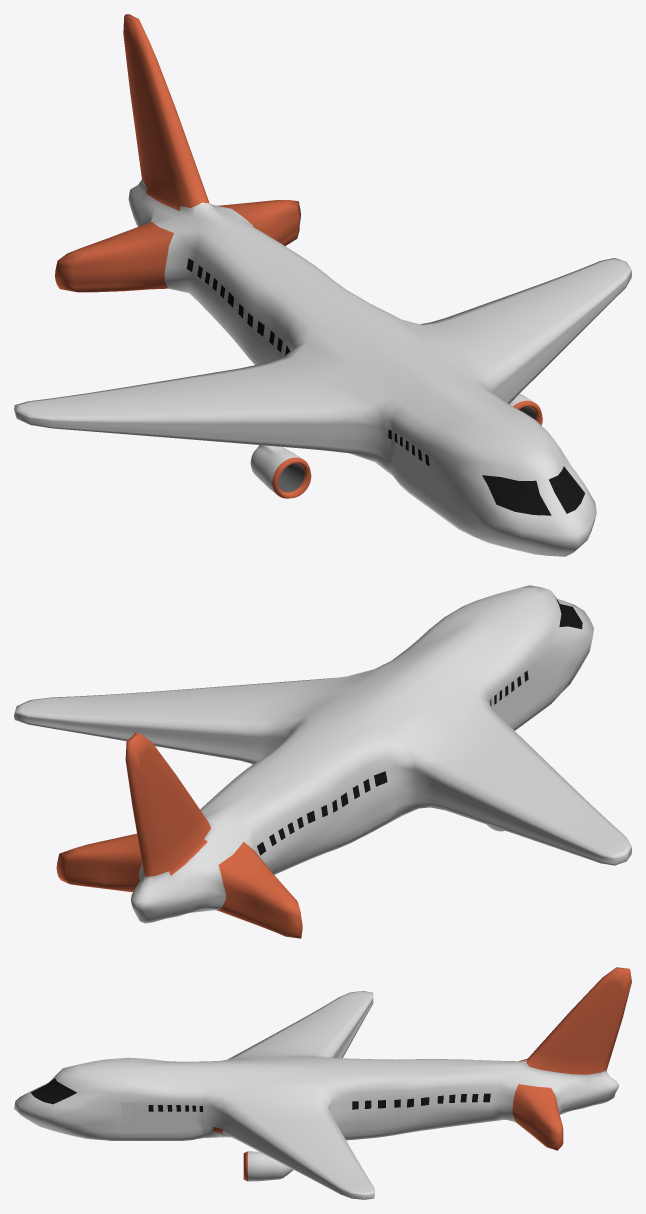
The picture shows the model from 3 angles, top to bottom: view 1: azimuth 30°, elevation 25°; view 2: azimuth 150°, elevation 25°; view 3: azimuth 270°, elevation 25°; orthographic projection. The views are drawn at different scales.
Parts seen in each view (by area): view 1: Plane; view 2: Plane; view 3: Plane.
Boxes of the visible parts, x1=… form: Plane: x1=14, y1=14, x2=631, y2=556; Plane: x1=14, y1=585, x2=631, y2=938; Plane: x1=14, y1=967, x2=631, y2=1199.
Bounding box in the file's own units: 174 × 68.9 × 223.
